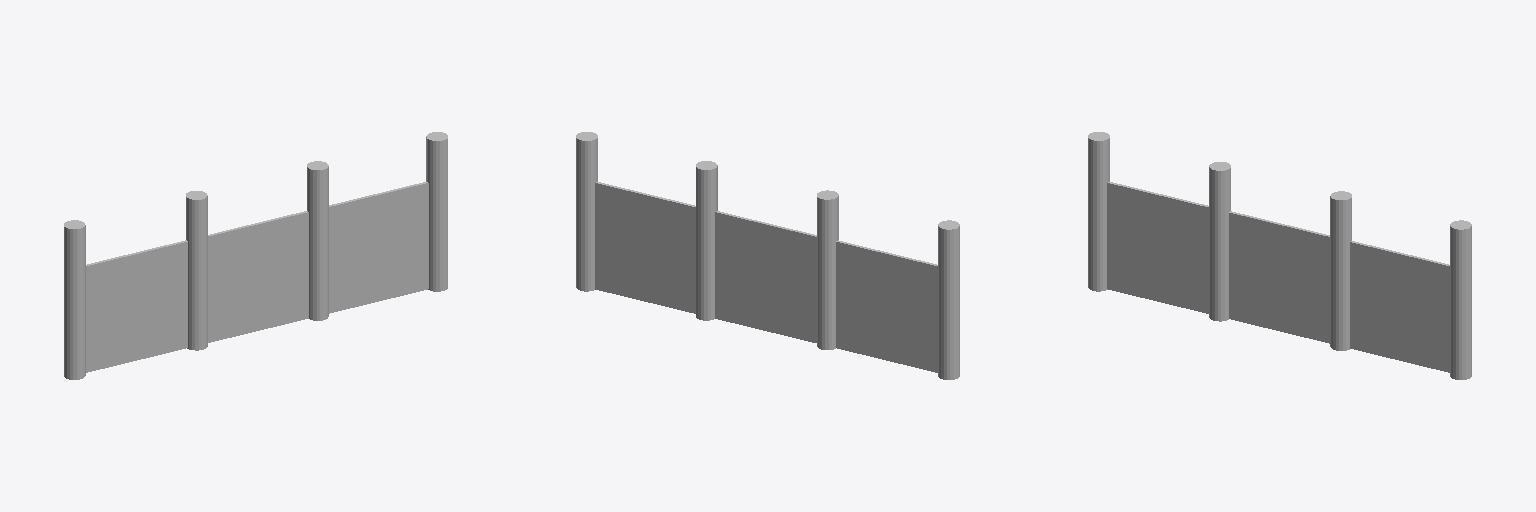
Rendered from walldouble23.obj.
3 renders of one model, left to right at view 1: azimuth 30°, elevation 25°; view 2: azimuth 150°, elevation 25°; view 3: azimuth 330°, elevation 25°, orthographic.
Parts seen in each view (by area): view 1: walldouble23; view 2: walldouble23; view 3: walldouble23.
Boxes of the visible parts, <box> form: walldouble23: <box>64,132,447,379</box>; walldouble23: <box>576,132,959,379</box>; walldouble23: <box>1088,132,1471,379</box>.
Bounding box in the file's own units: 65.32 × 24.63 × 3.38.